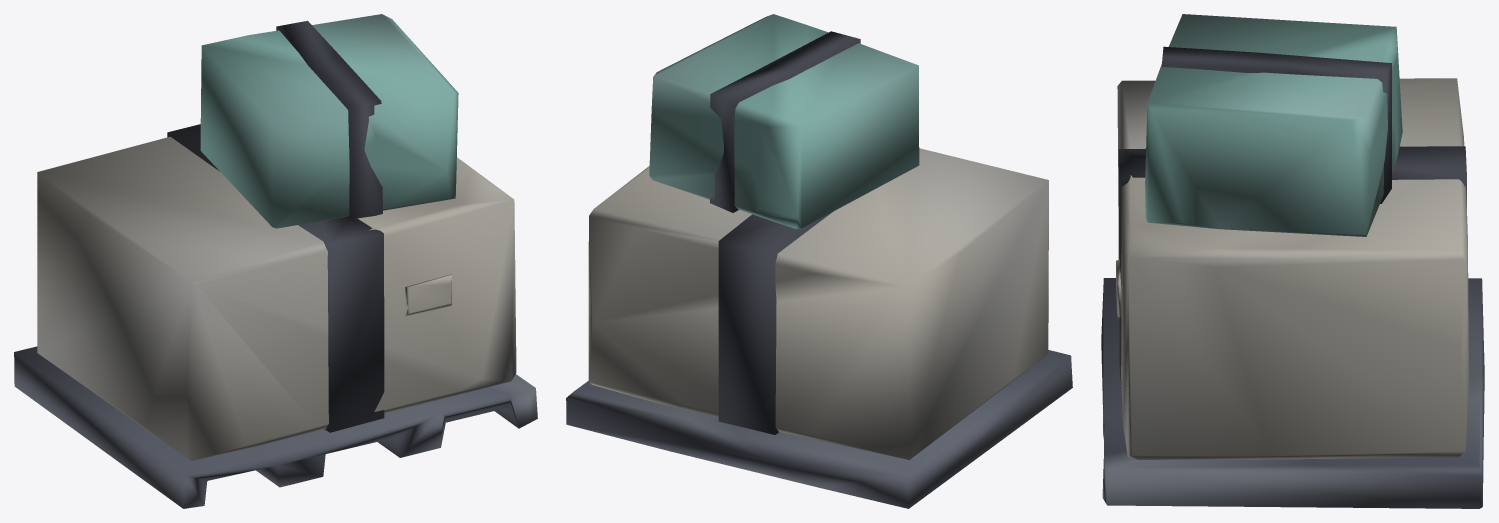
File: bay_pallet_b.glb
3 renders of one model, left to right at view 1: azimuth 30°, elevation 25°; view 2: azimuth 150°, elevation 25°; view 3: azimuth 270°, elevation 25°, orthographic. The views are drawn at different scales.
Visible parts, largest first — view 1: pallet; view 2: pallet; view 3: pallet.
Boxes of the visible parts, x1=… form: pallet: x1=14, y1=14, x2=537, y2=508; pallet: x1=566, y1=14, x2=1072, y2=508; pallet: x1=1101, y1=14, x2=1484, y2=508.
Bounding box in the file's own units: 1.2 × 1.09 × 1.
